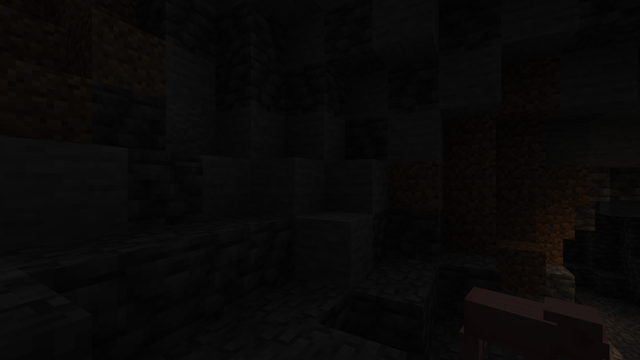cochons: (471, 283, 560, 359)
